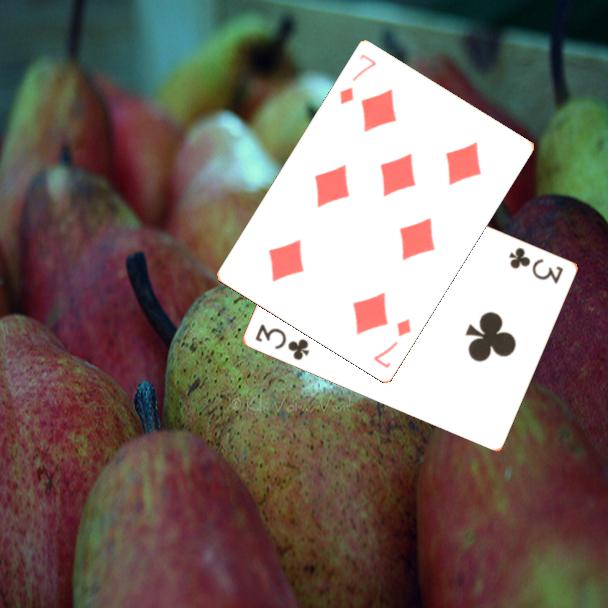c03: (506, 244, 567, 287), (252, 320, 313, 363)
d07: (370, 314, 414, 371), (336, 50, 379, 107)
